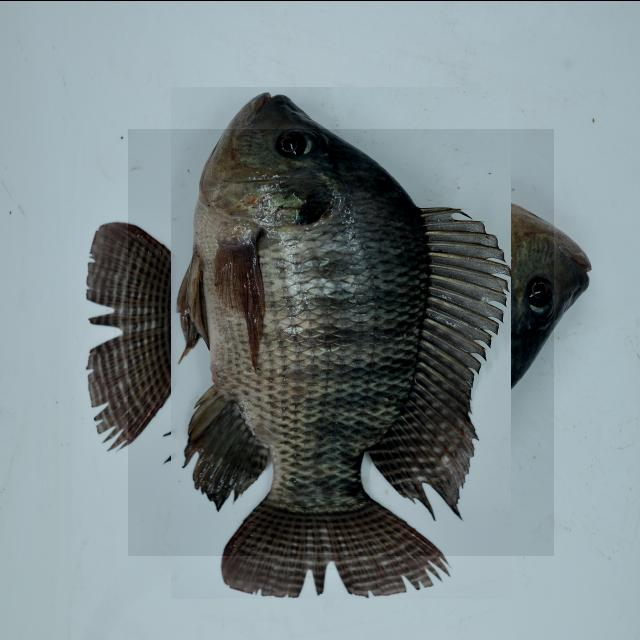Healthy Fish: (128, 128, 554, 555)
